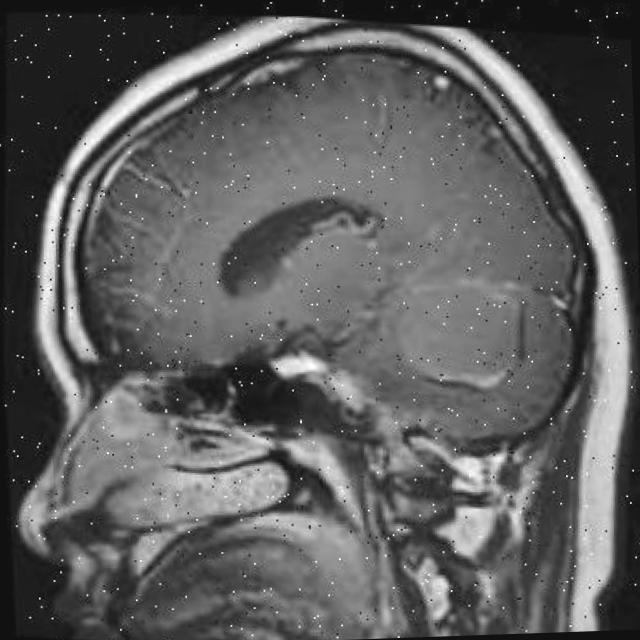CN: (358, 250, 560, 441)
